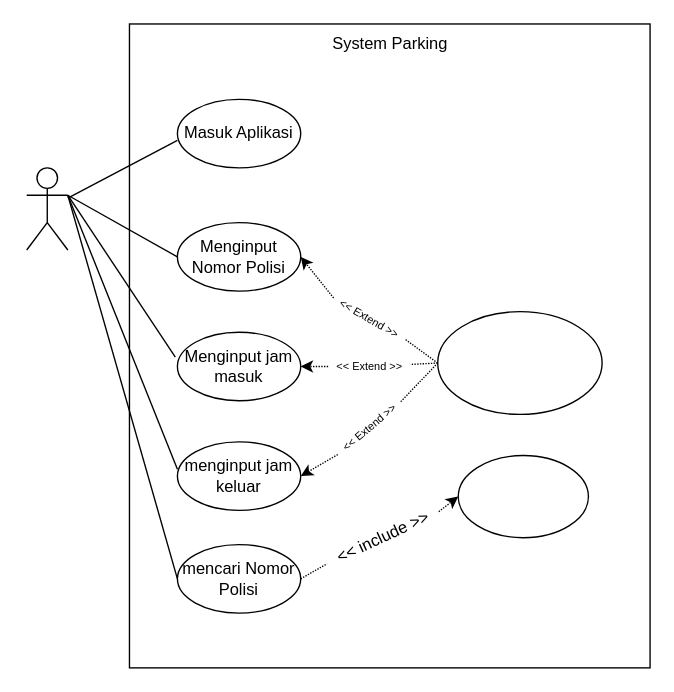
Some shapes in this 674 by 692 pixel diagram are drawn without their labels. Here are the shapes that lost their labels. From the top down, the centre of each, then its label:
At point (46, 208): "Admin".
At point (519, 362): "Memasukan data kendaraan kedalam list".
At point (522, 496): "Mencari data didalam list".
